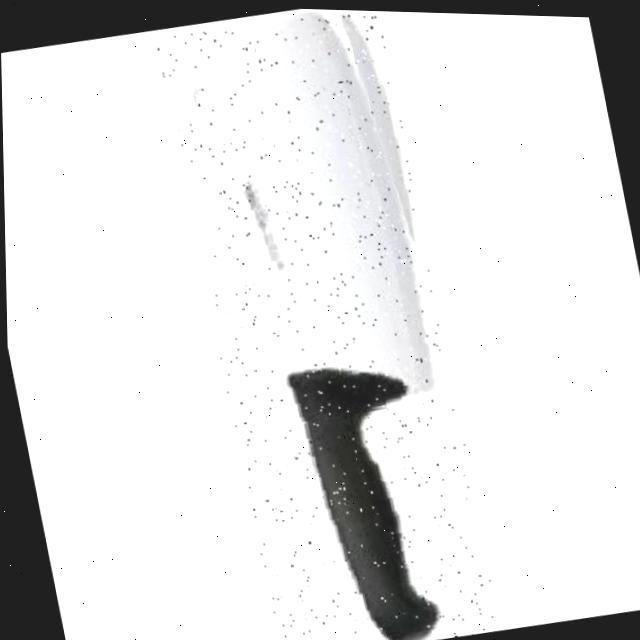knife: (153, 4, 499, 640)
